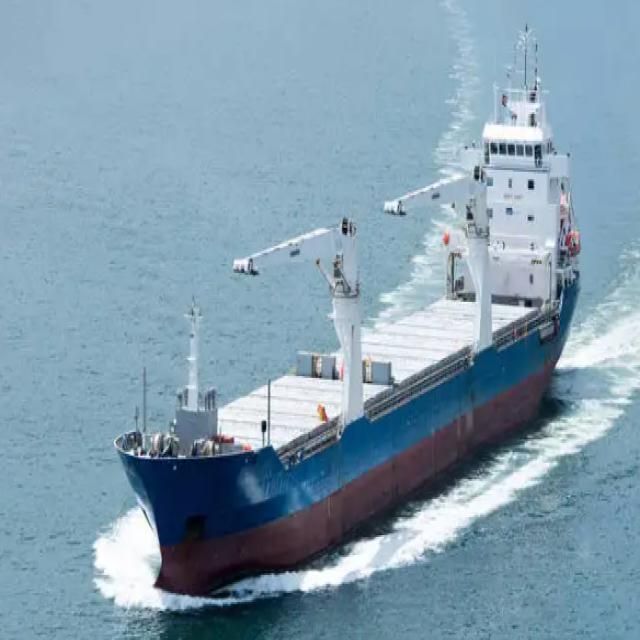cargoship: (110, 35, 584, 591)
